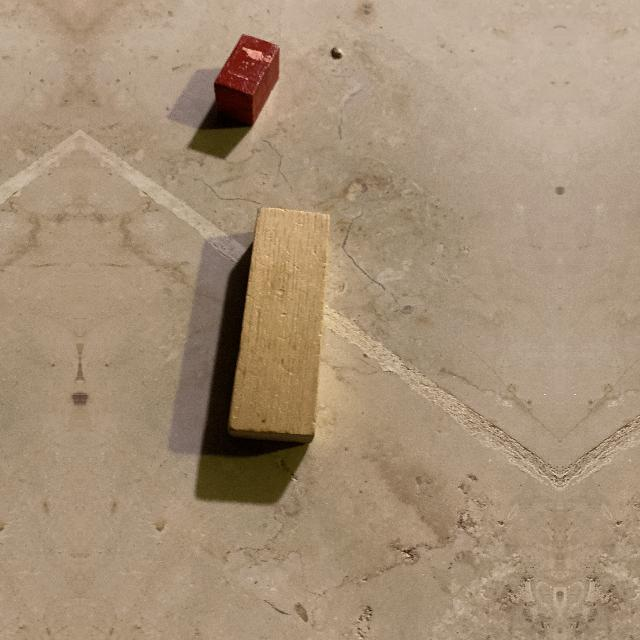jenga: (227, 209, 331, 440)
red block: (214, 36, 281, 126)
